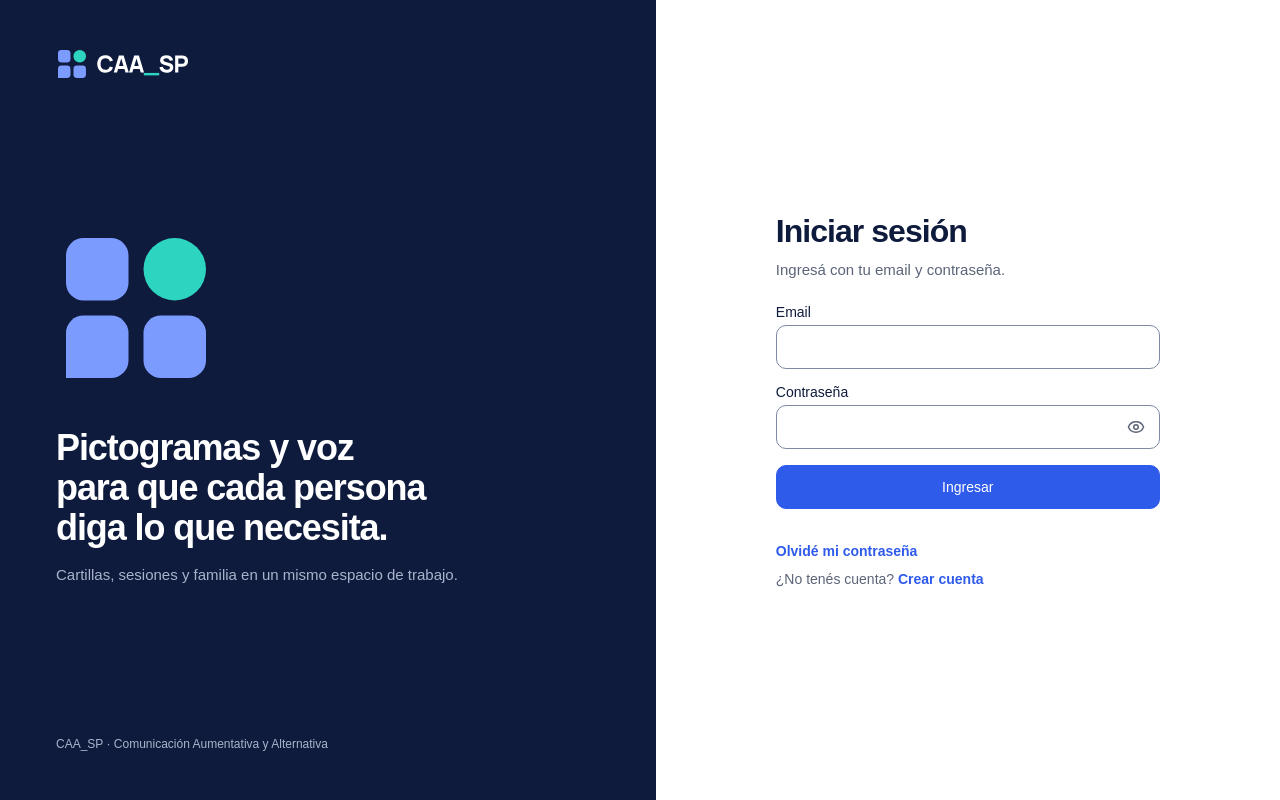
Test: LoginPage › shows the 401 copy in an alert for wrong credentials
Type "ana@example.com" into the field labelled "Email" at (968, 347), box [776, 325, 1160, 369]
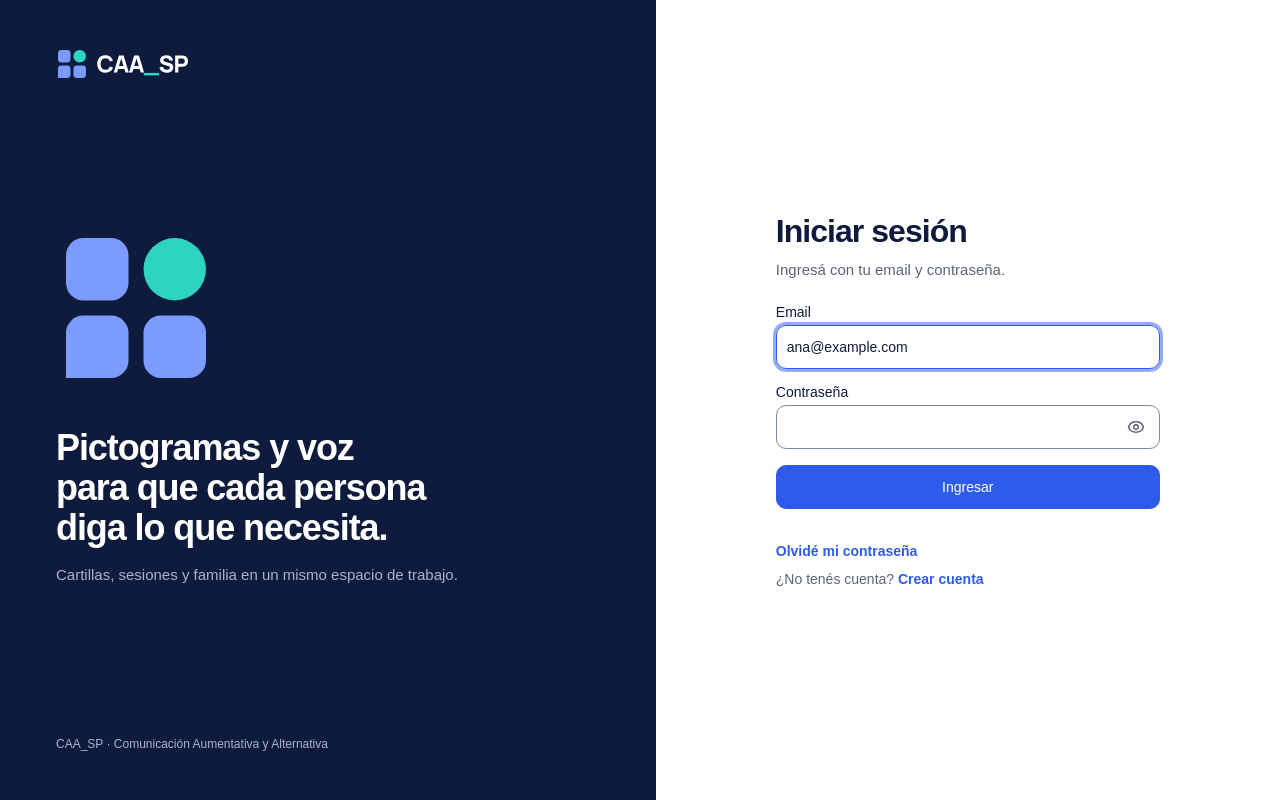
Type "secret" into the password field labelled "Contraseña" at (968, 427), box [776, 405, 1160, 449]
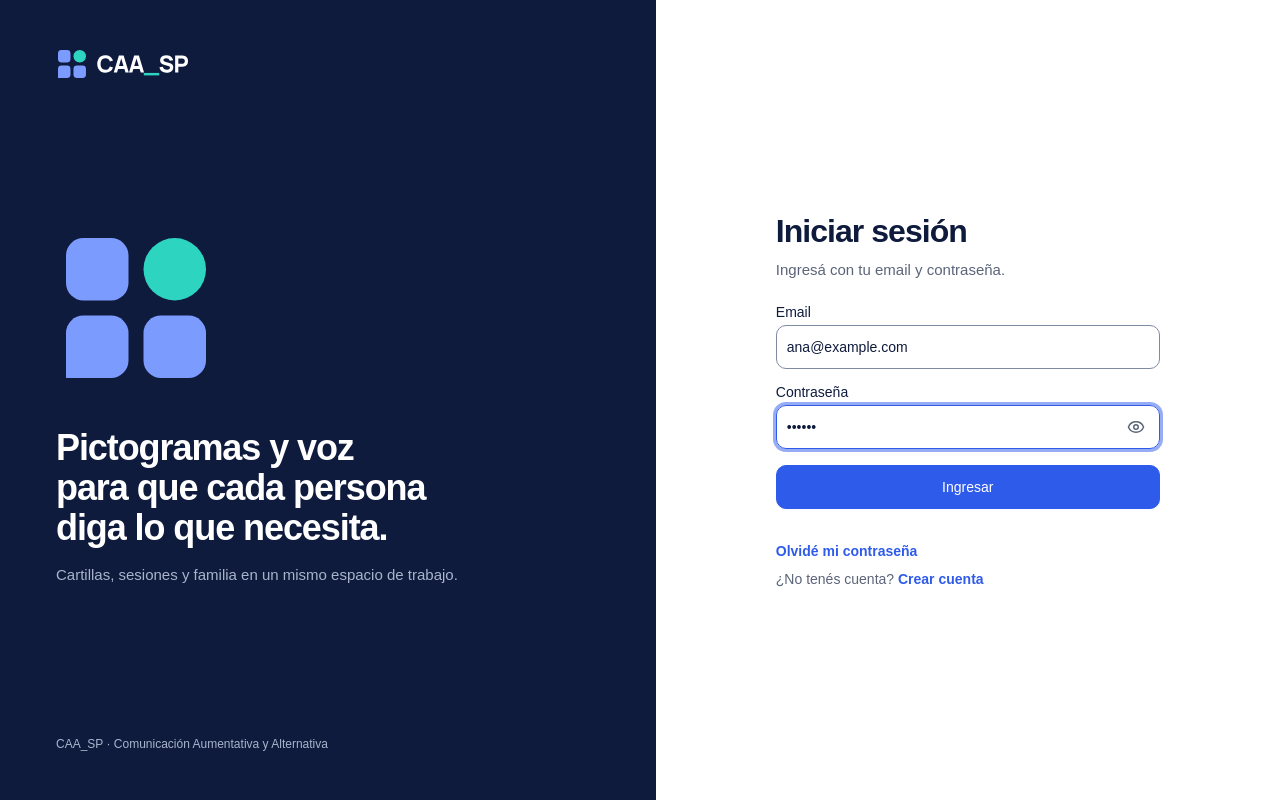
Click the button "Ingresar" at (968, 487), box [776, 465, 1160, 509]
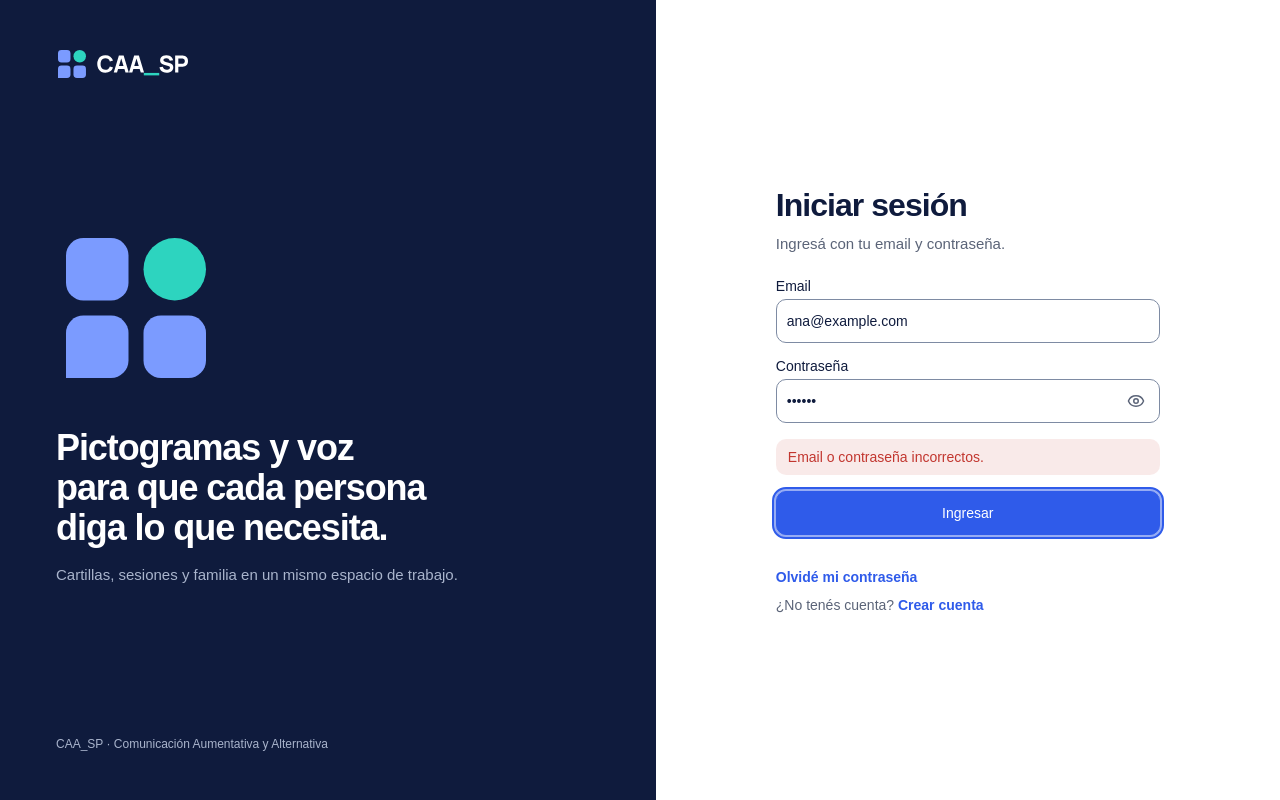
Check: the message reads "Email o contraseña incorrectos.", box [788, 449, 984, 465]
